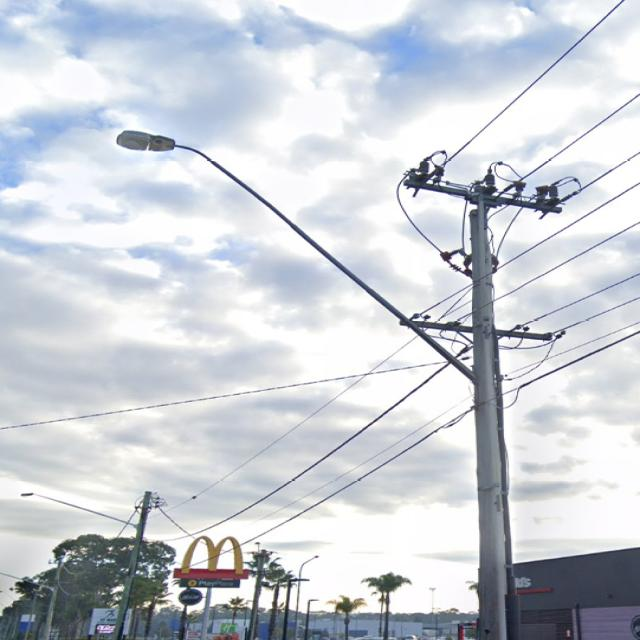HV-transmission: (403, 156, 580, 276)
crossarm: (401, 178, 560, 212), (399, 317, 549, 340)
steel-pole: (292, 564, 302, 640)
streetlight: (113, 128, 471, 382), (20, 489, 139, 528), (301, 556, 320, 568)
timber-pole: (465, 207, 506, 639), (112, 491, 152, 638), (41, 555, 61, 640), (246, 553, 263, 639)
